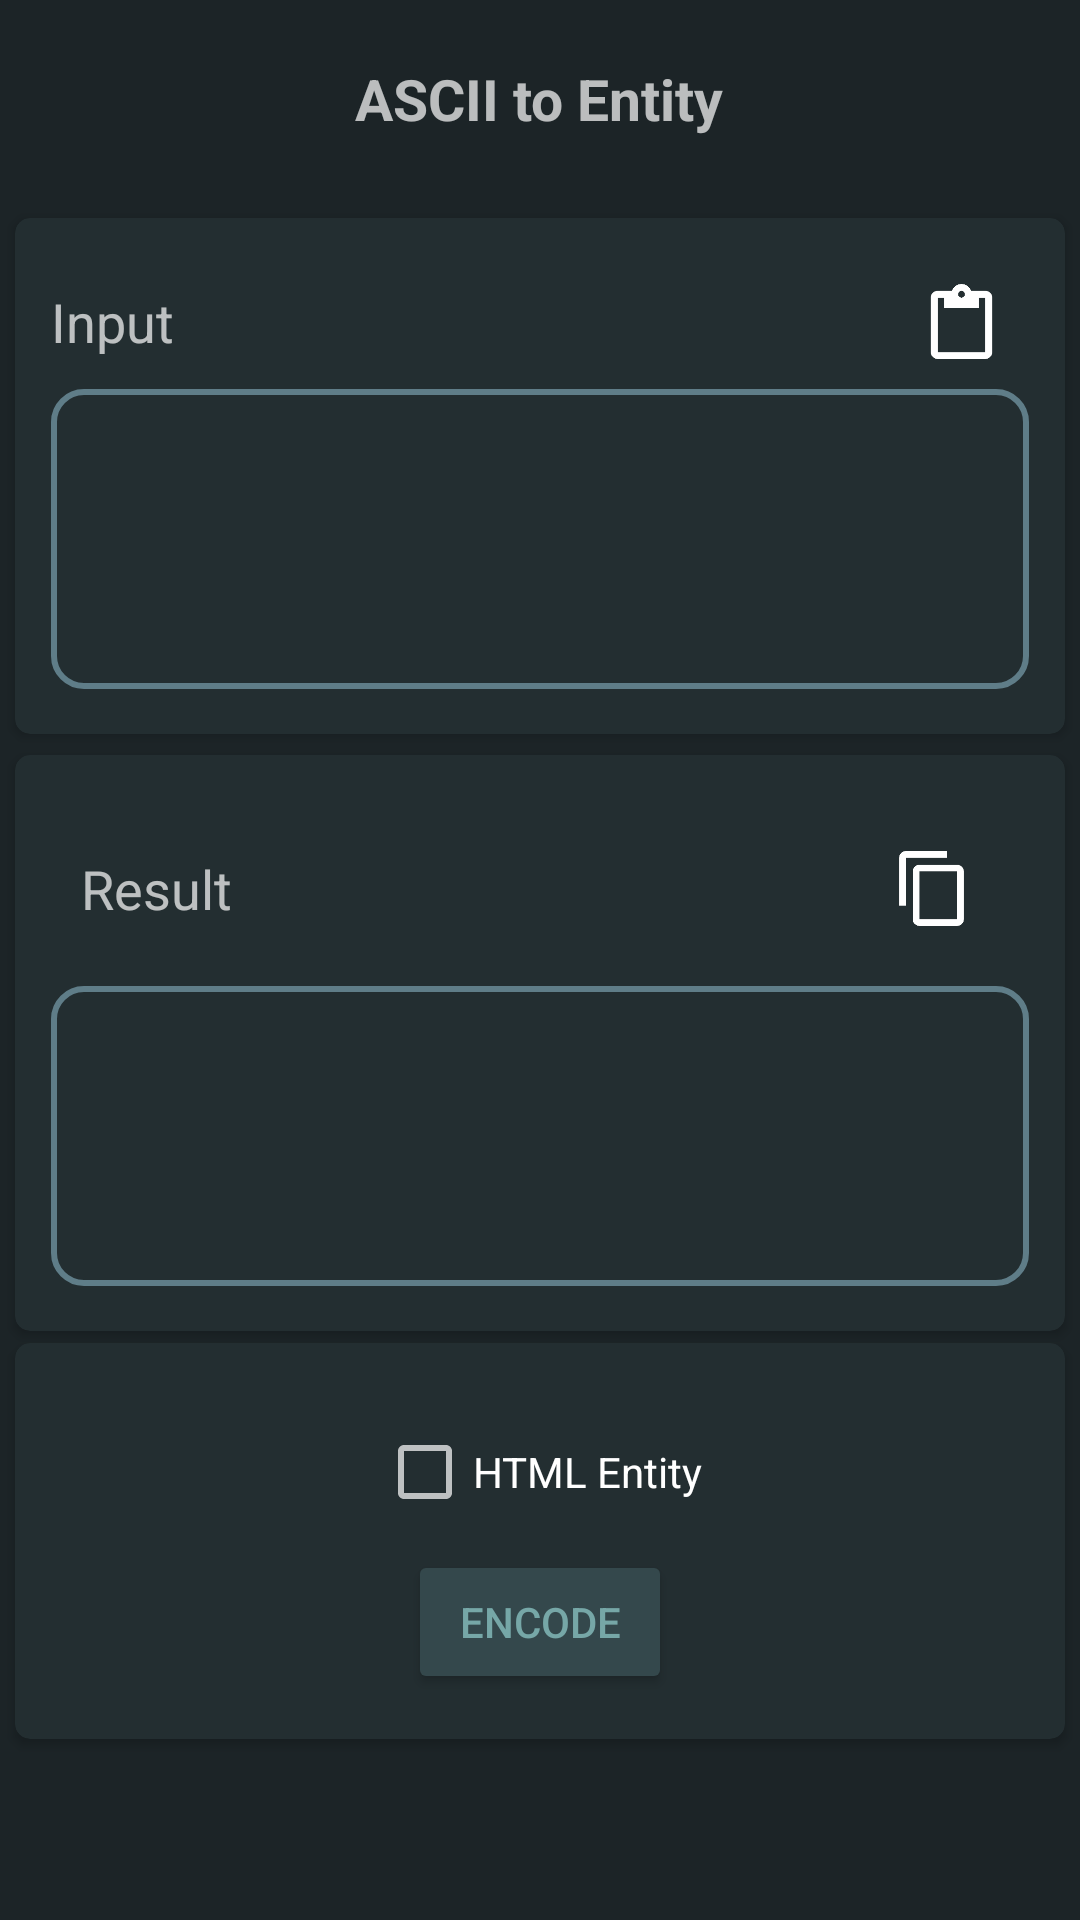

Locate icon controls on the screen. Image size 1080*1920, boxes as (x1, y1, x2, y2).
cmd content paste: (930, 284, 993, 359)
